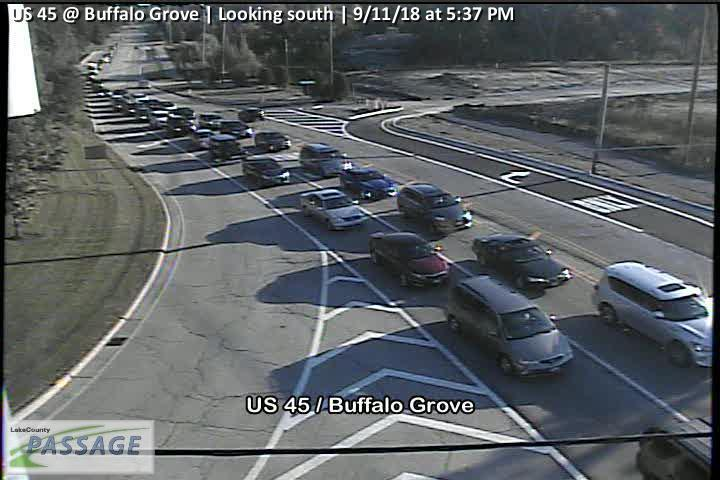SUV: (592, 260, 713, 369), (448, 276, 575, 378), (368, 228, 449, 289), (397, 180, 473, 234), (300, 142, 352, 179), (209, 132, 239, 159), (165, 113, 192, 136), (147, 110, 171, 130), (238, 108, 264, 122)
Sedan: (472, 232, 572, 288), (300, 188, 369, 232), (341, 167, 396, 202), (241, 156, 291, 187), (253, 131, 290, 151), (219, 120, 252, 140), (195, 112, 224, 129), (191, 128, 212, 148)
